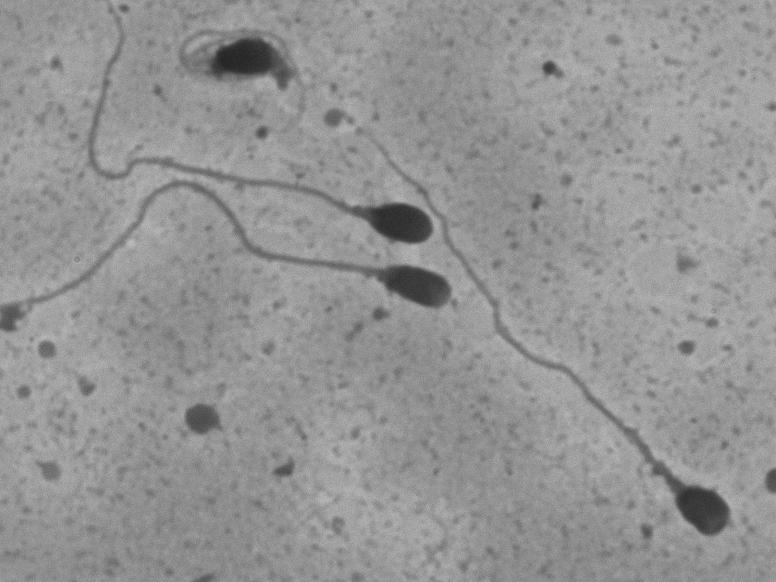Abnormal: (337, 104, 738, 546), (69, 6, 435, 249), (28, 173, 457, 316), (160, 12, 317, 145)
